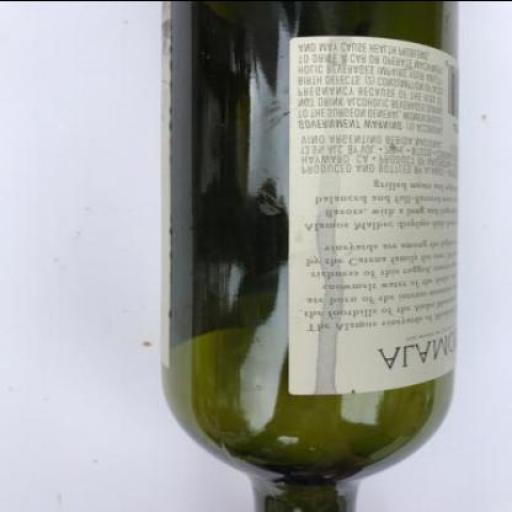glass: (158, 1, 456, 511)
